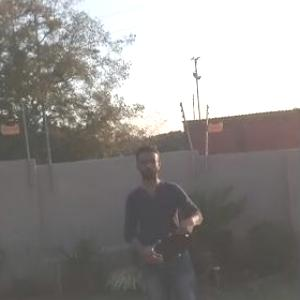follow: (116, 134, 212, 299)
